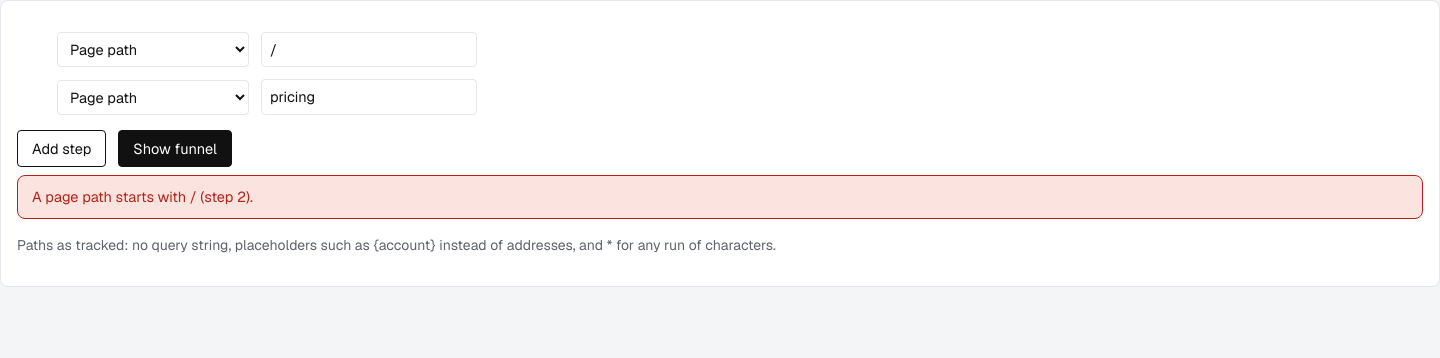
Scenario: StepListEditor › starts with the minimum rows, adds and removes within bounds, runs encoded steps
Earlier steps of the test are not shown.
Expected: the message with test id "step-editor-problem" shows "starts with /", left=32, top=187, right=253, bottom=206
Replace the text in the 2nd field with "/pricing" at (369, 97), box left=261, top=79, right=477, bottom=115
Click the button "Add step" at (62, 148), box left=17, top=130, right=106, bottom=167
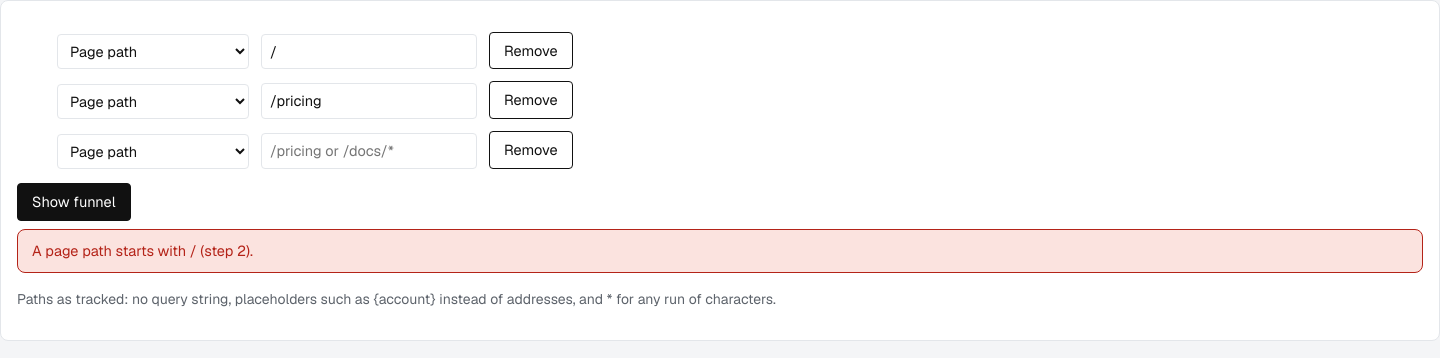
Expected: the button "Add step" is gone
Select "Event" in the 3rd dropdown named "Step 3 type" at (153, 151), box left=57, top=134, right=249, bottom=169
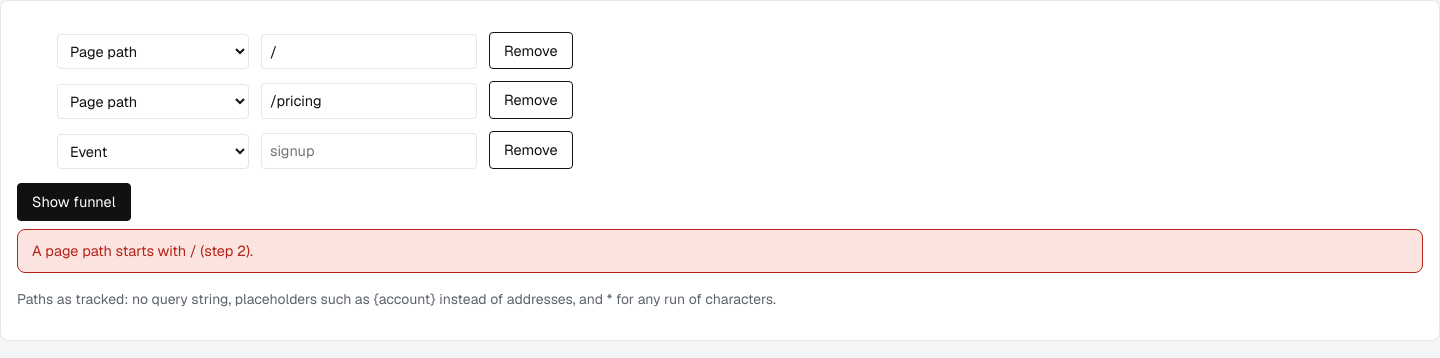
Type "/signup" into the field with placeholder "signup" at (369, 151), box left=261, top=133, right=477, bottom=169
Click the button "Show funnel" at (74, 202), box left=17, top=183, right=130, bottom=221
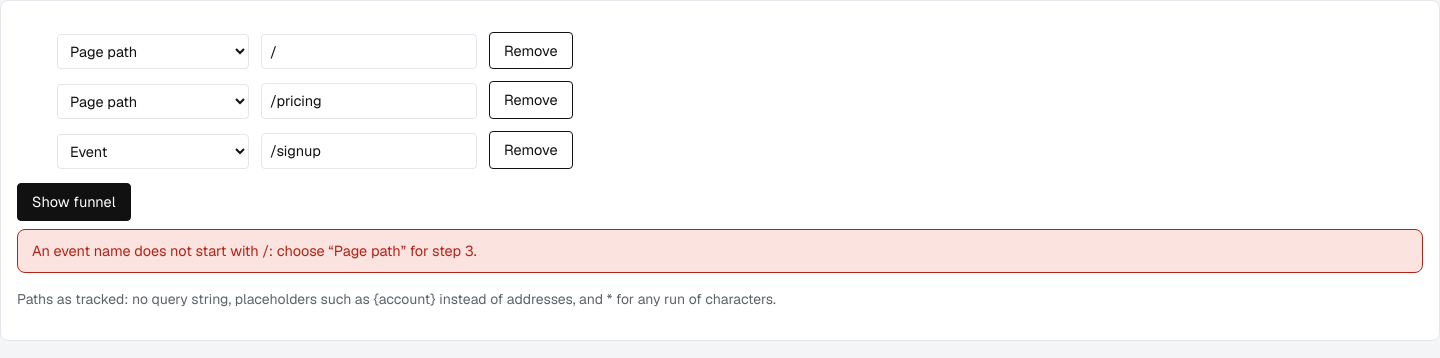
Expected: the message with test id "step-editor-problem" shows "Page path", left=32, top=241, right=477, bottom=260
Replace the text in the 3rd field with "signup" at (369, 151), box left=261, top=133, right=477, bottom=169
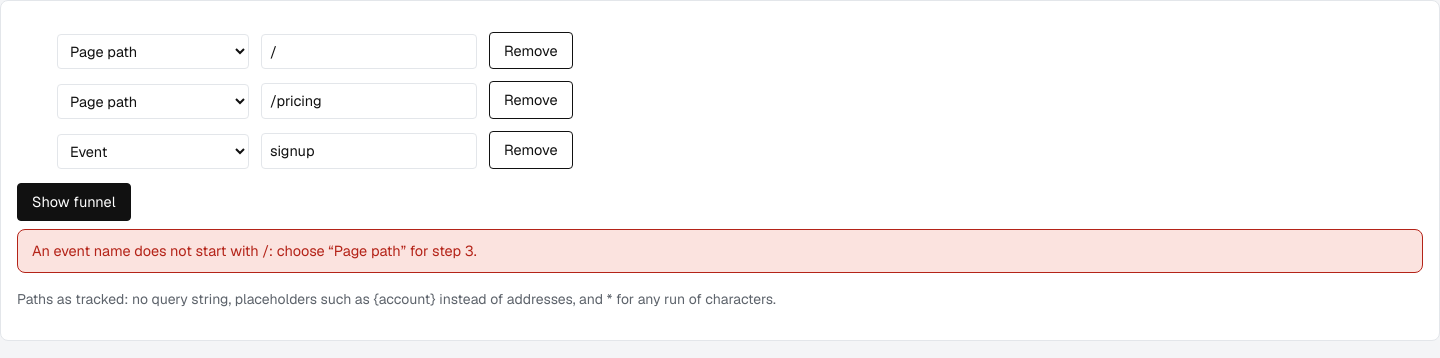
Click the button "Show funnel" at (74, 202), box left=17, top=183, right=130, bottom=221
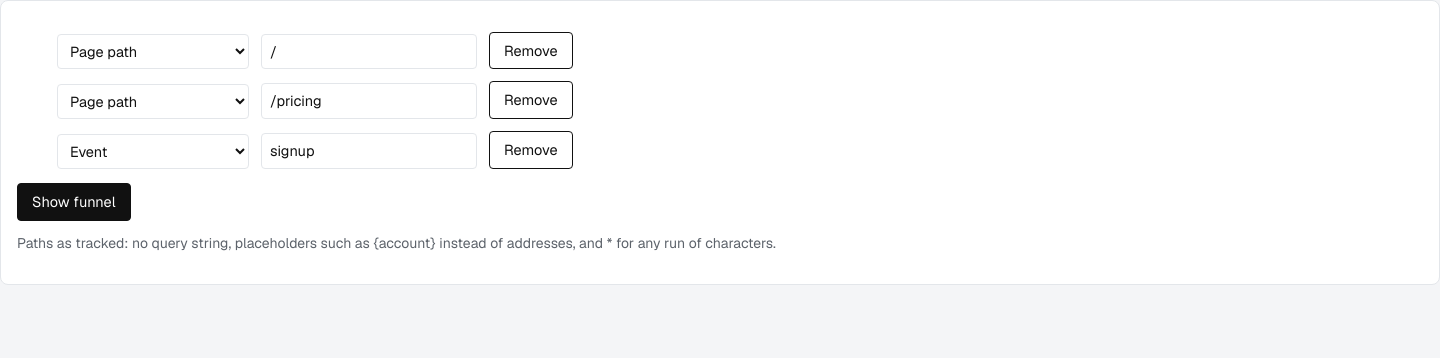
Click the button with aria-label "Remove step 1" at (531, 50), box left=489, top=32, right=573, bottom=69
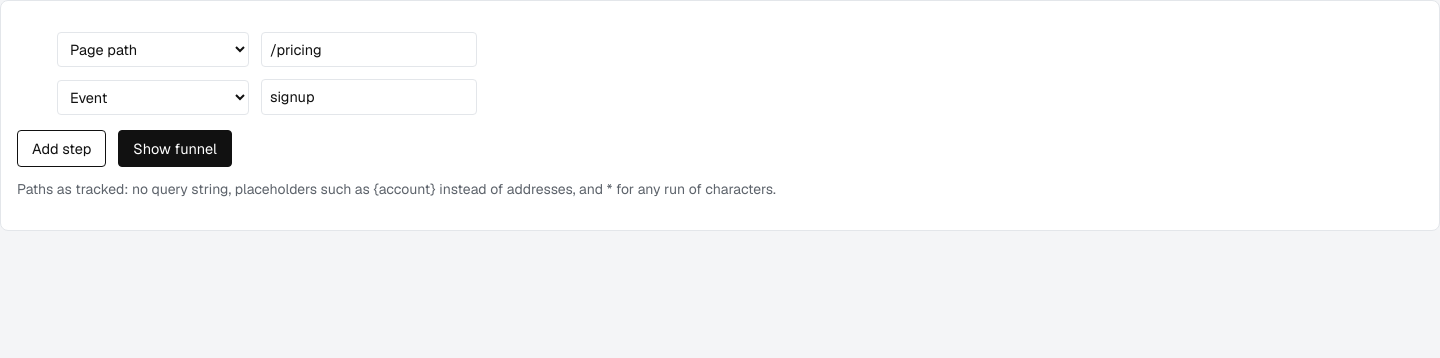
Expected: the number of fields is 2, left=261, top=32, right=477, bottom=67; left=261, top=79, right=477, bottom=115
